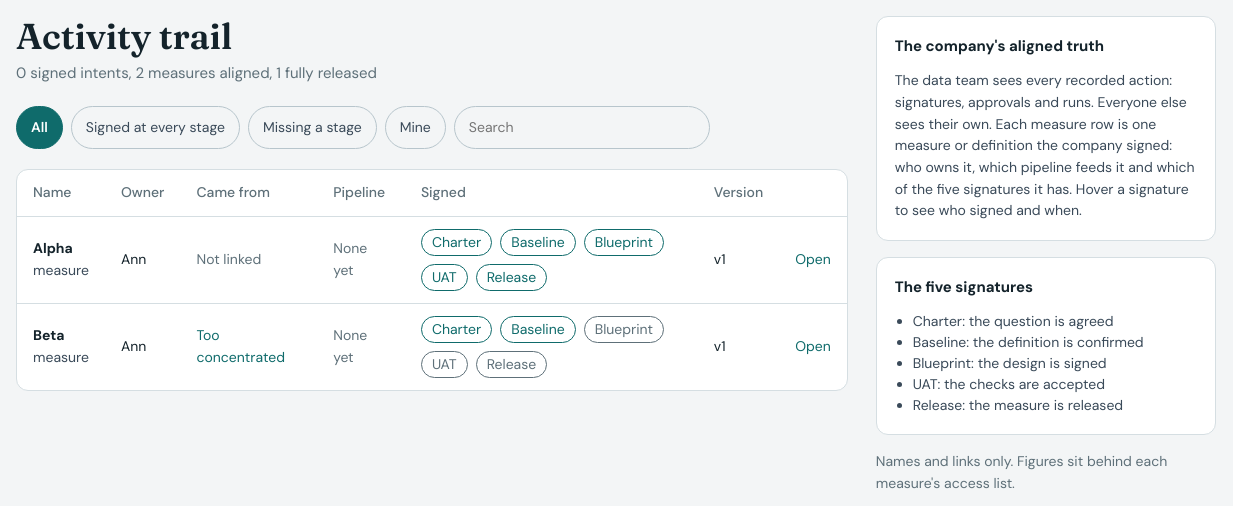
Test: the missing-a-stage filter narrows the rows
Expected: the text "Alpha" is shown, [33,239,73,257]
Click the button "Missing a stage".
click(312, 127)  # box [248,106,377,149]
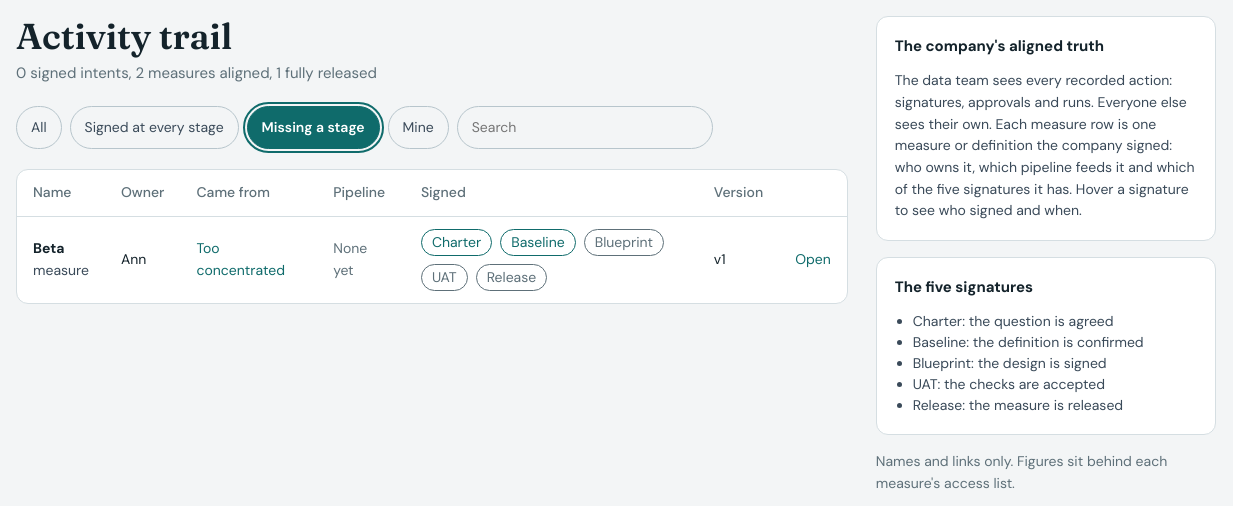
Now the text "Alpha" is gone
Now the text "Beta" is shown, box [33,239,64,257]
